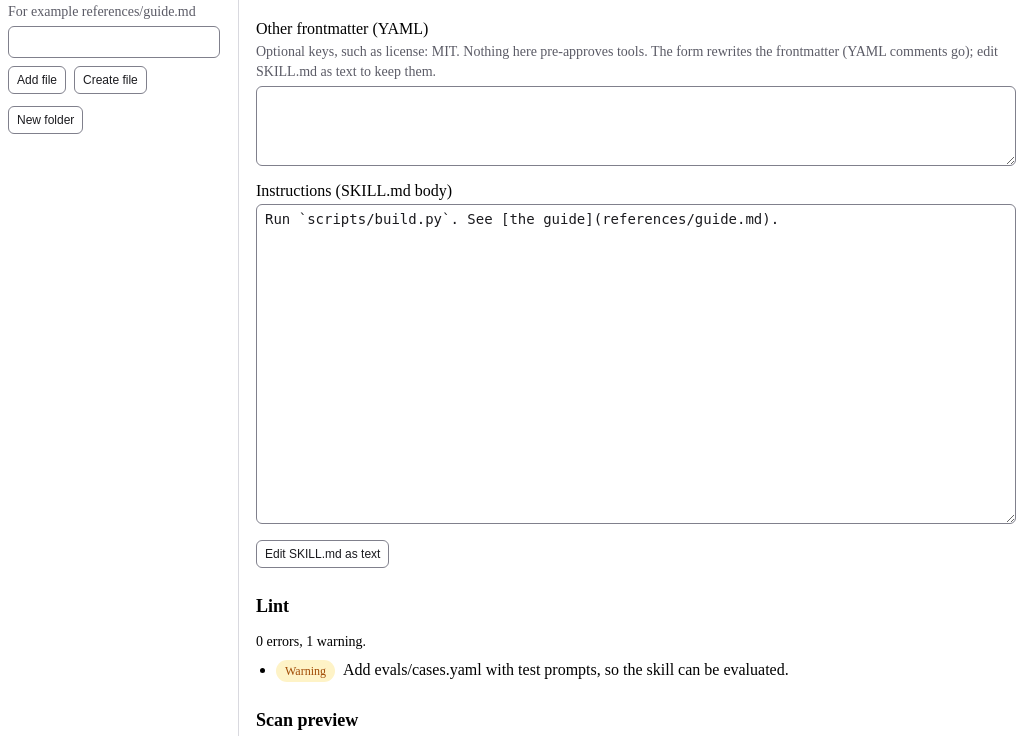
Scenario: Workbench editor: review fixes (B2, S1, S2, S4) › queues a new file behind a pending autosave, so it names the autosave's revision
(page scrolled)
Replace the text in the text box labelled "Instructions (SKILL.md body)" with "Pending." at {"x": 636, "y": 364}, box left=256, top=204, right=1016, bottom=524
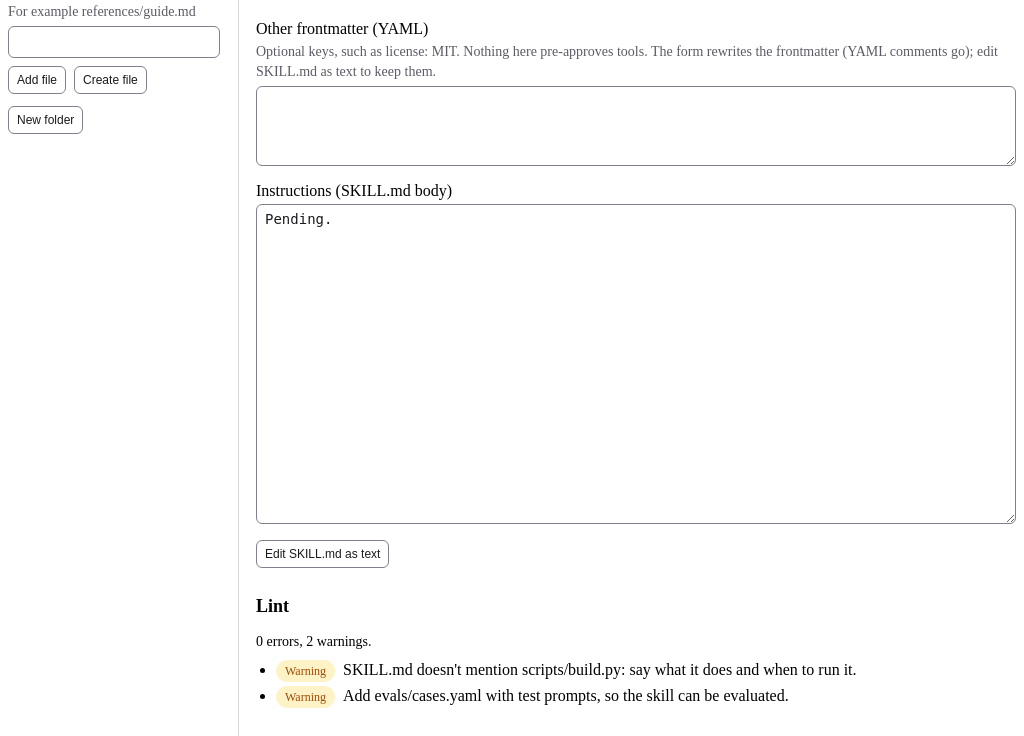
Type "notes.md" into the field labelled "New file" at {"x": 114, "y": 42}, box left=8, top=26, right=220, bottom=58
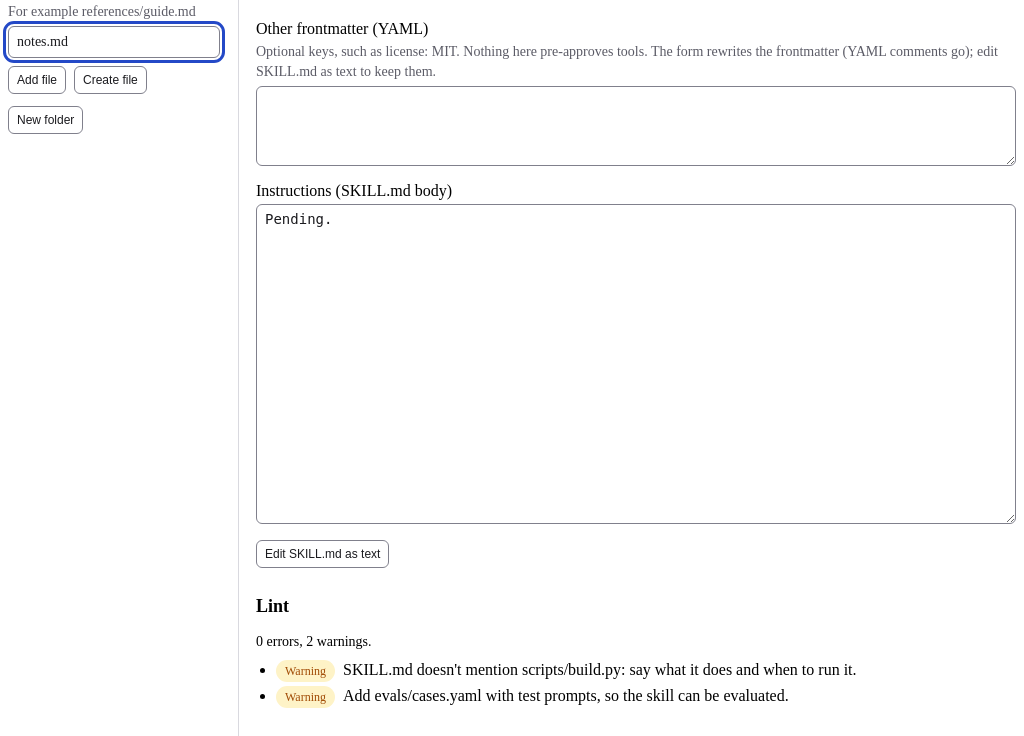
Click the button "Add file" at {"x": 37, "y": 80}, box left=8, top=66, right=66, bottom=94
(page scrolled)
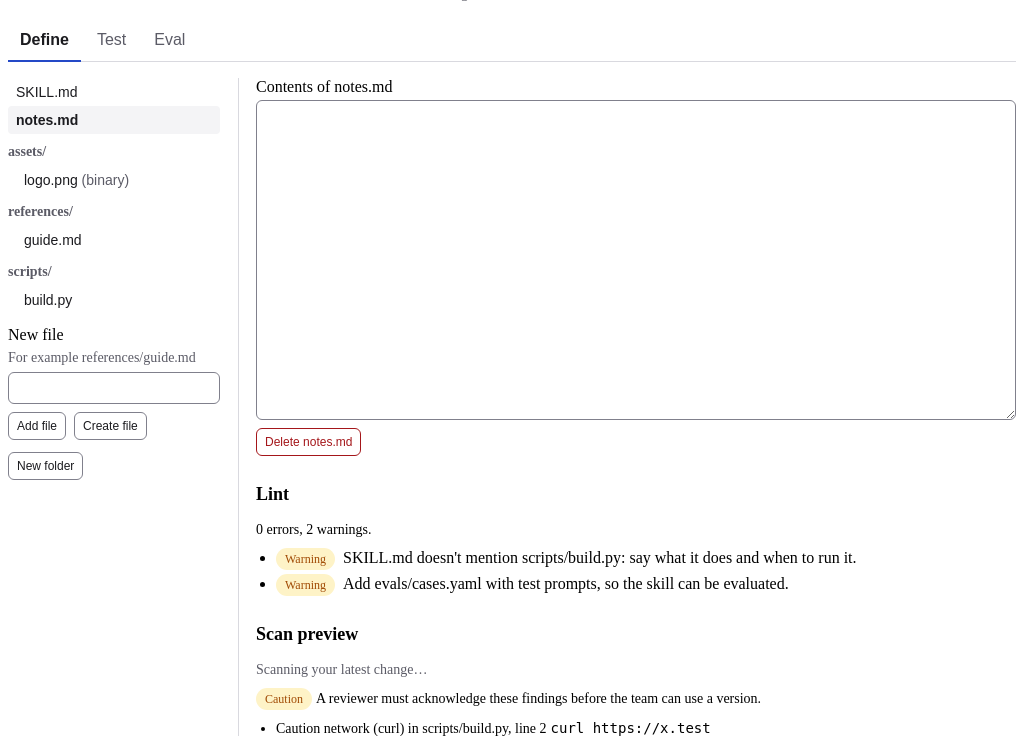
Expected: the text box labelled "Contents of notes.md" is shown, left=256, top=100, right=1016, bottom=420
